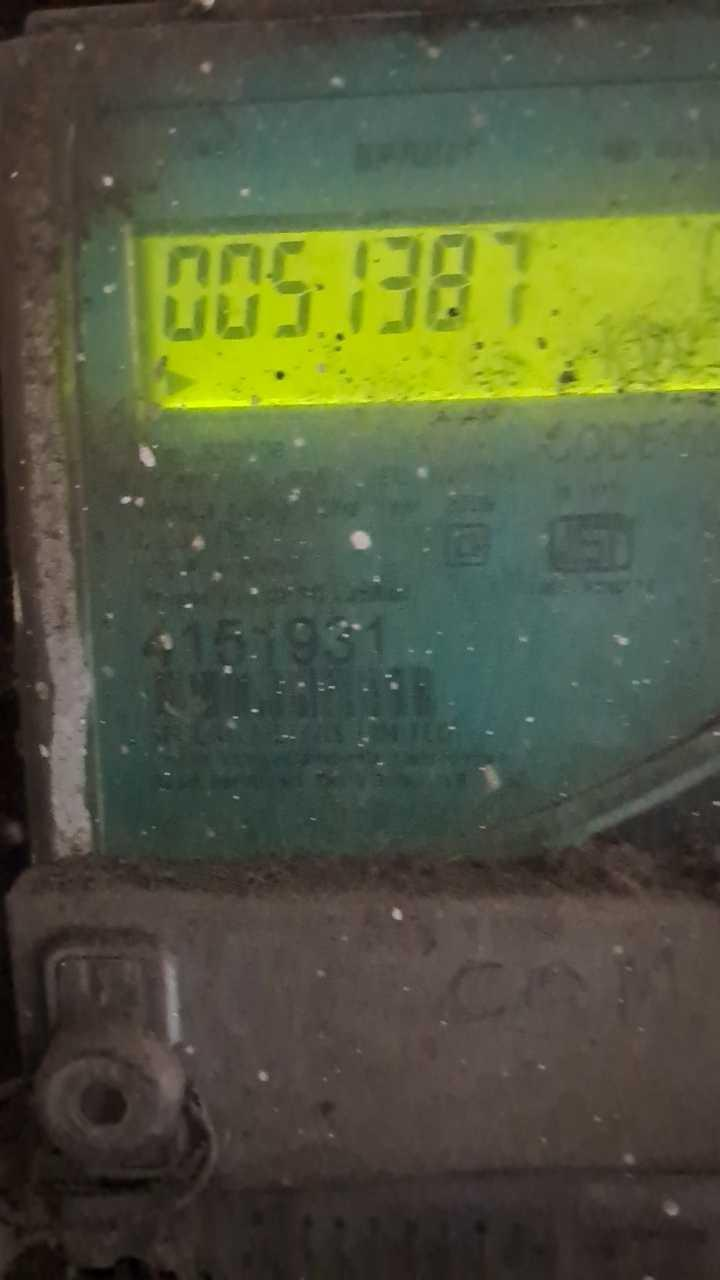meter_readings: (158, 223, 548, 346)
serial_number: (132, 612, 394, 667)
